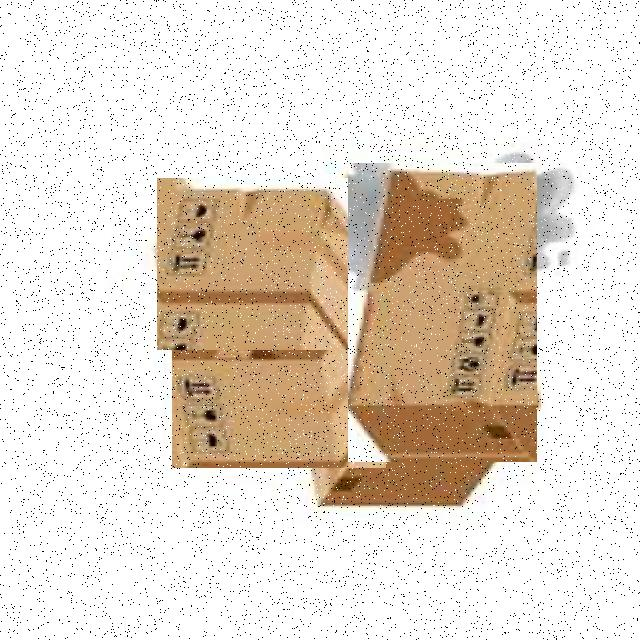defect: (348, 163, 537, 462), (157, 178, 371, 350), (172, 297, 386, 468)
